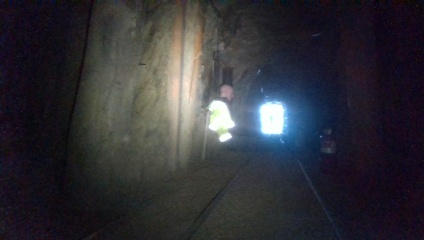fire_extinguisher: (311, 117, 339, 181)
manikin: (210, 82, 256, 153)
